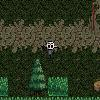Interaction: (83, 0, 100, 30)
Jason: (40, 40, 58, 59)
Obstacle: (27, 77, 48, 96), (91, 77, 100, 97)
Slow: (47, 77, 69, 97), (0, 77, 8, 96)
